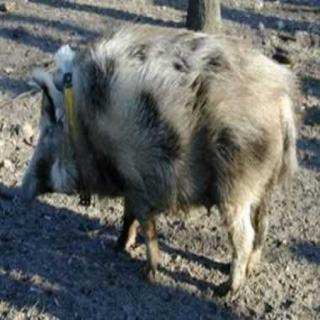Pig: (5, 26, 314, 287)
